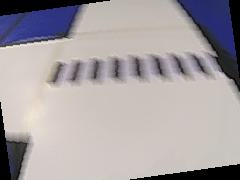CrossWalk: (34, 45, 233, 90)
